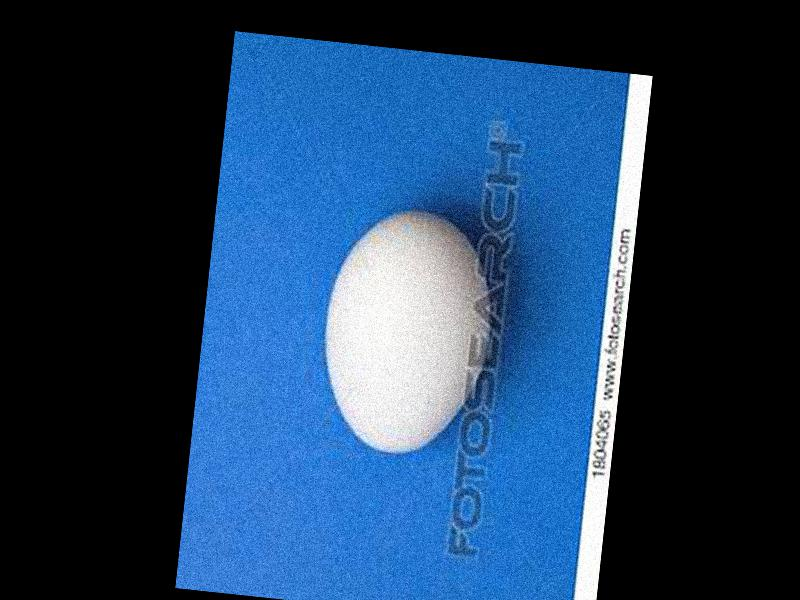Eggs: (314, 203, 506, 461)
